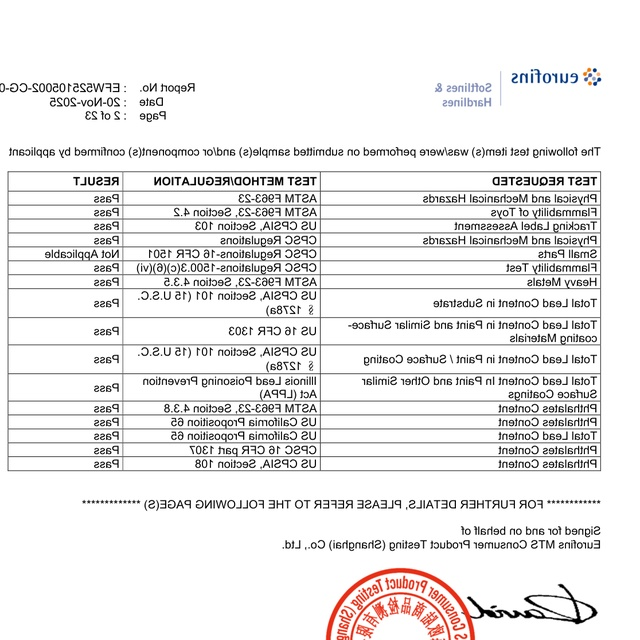eurofins: (505, 61, 606, 93)
